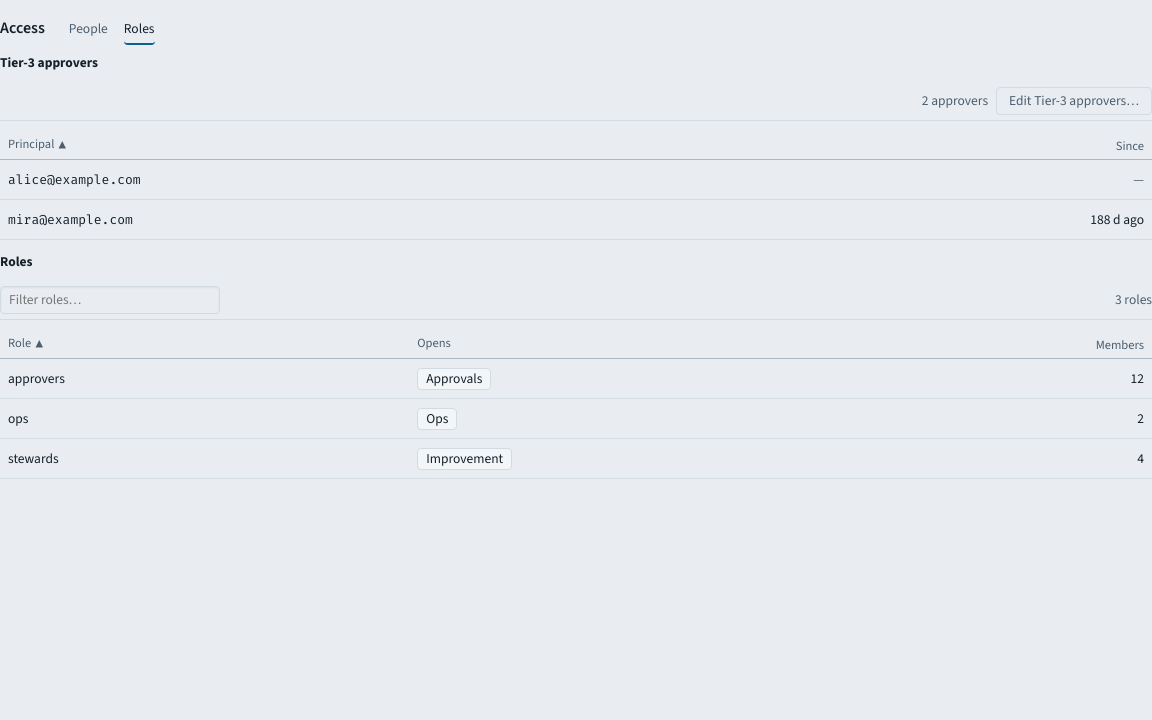
Test case: §15 Roles — the pinned Tier-3 list and the roles table › a role row opens its member list and surface mapping
The image size is (1152, 720).
What coordinates should you click on to do the following:
click the cell "ops"
I would click on:
 (18, 418)
Its box is top-left (0, 398), bottom-right (409, 438).
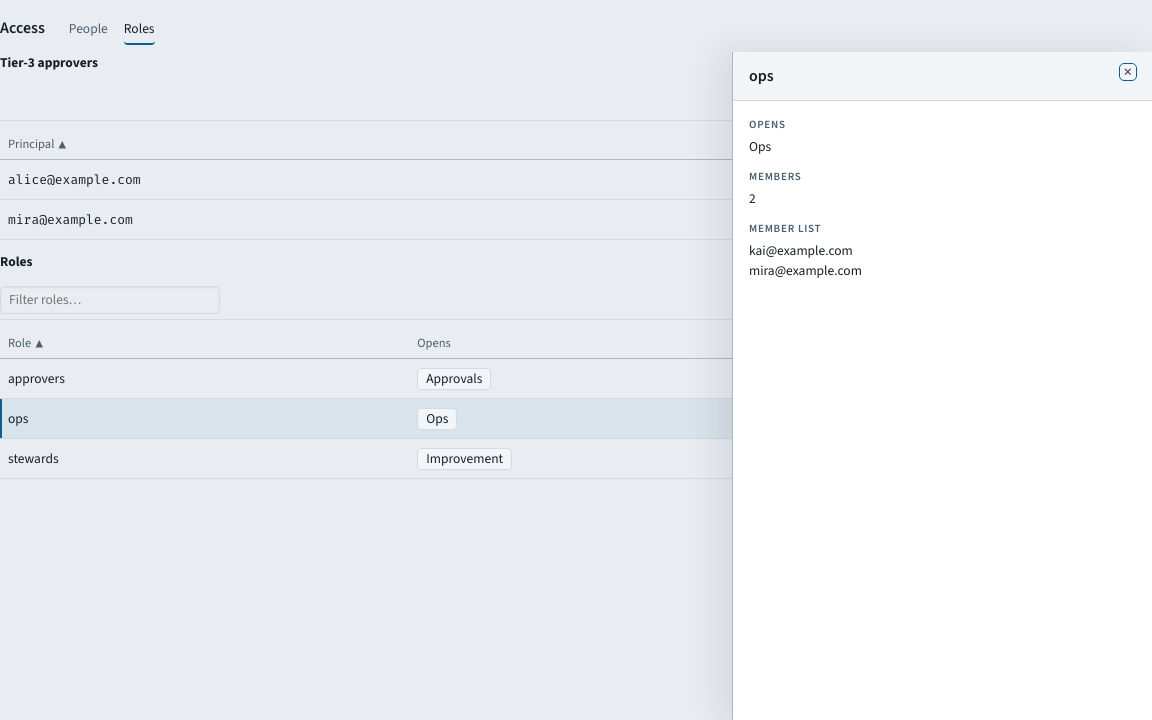
Check: the 1st text "Ops" is shown, box top-left (749, 137), bottom-right (771, 156)
Check: the text "kai@example.com mira@example.com" is shown, box top-left (749, 241), bottom-right (862, 280)
